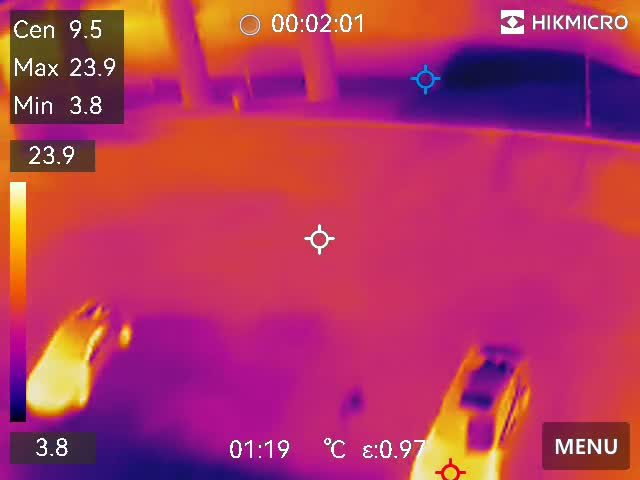smallCar: (412, 328, 535, 480)
vehicle: (19, 295, 126, 419)
